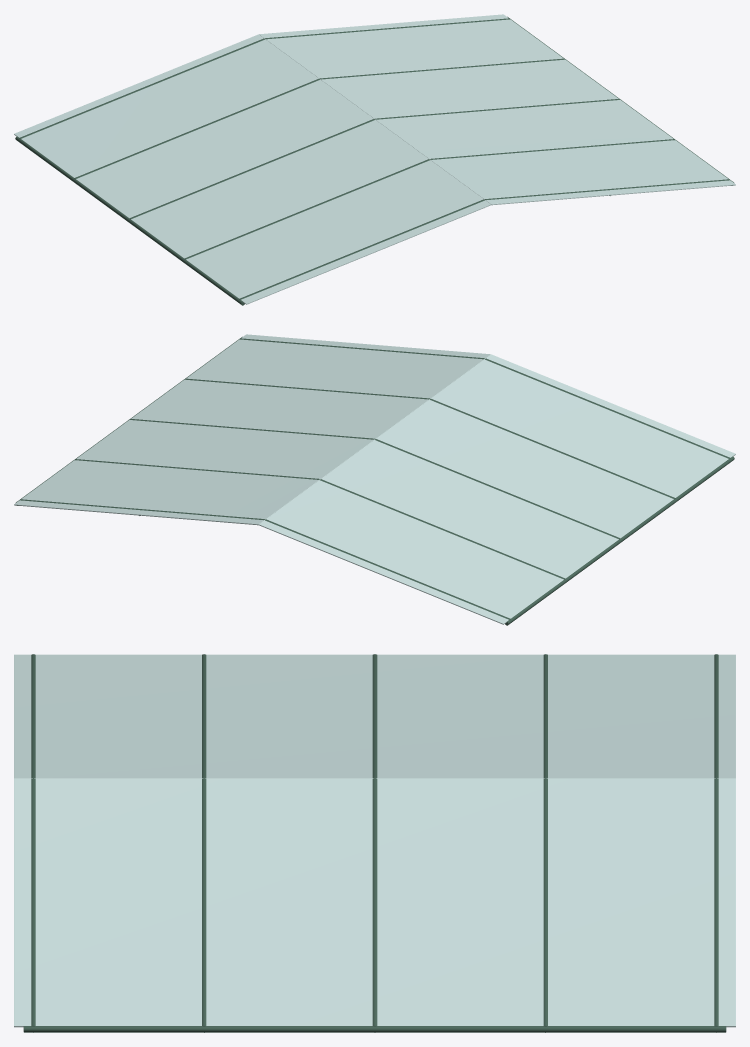
The model's file is roof.glb.
3 renders of one model, top to bottom at view 1: azimuth 30°, elevation 25°; view 2: azimuth 150°, elevation 25°; view 3: azimuth 270°, elevation 25°, orthographic. The views are drawn at different scales.
Visible parts, largest first — view 1: garden-conservatory roof; view 2: garden-conservatory roof; view 3: garden-conservatory roof.
Part boxes in pixels (box(x1,y1,x2,y2)): garden-conservatory roof: box(14, 14, 735, 305); garden-conservatory roof: box(14, 334, 735, 625); garden-conservatory roof: box(14, 654, 735, 1032).
Size of the model in its own units: 9.07 by 0.788 by 7.4.
